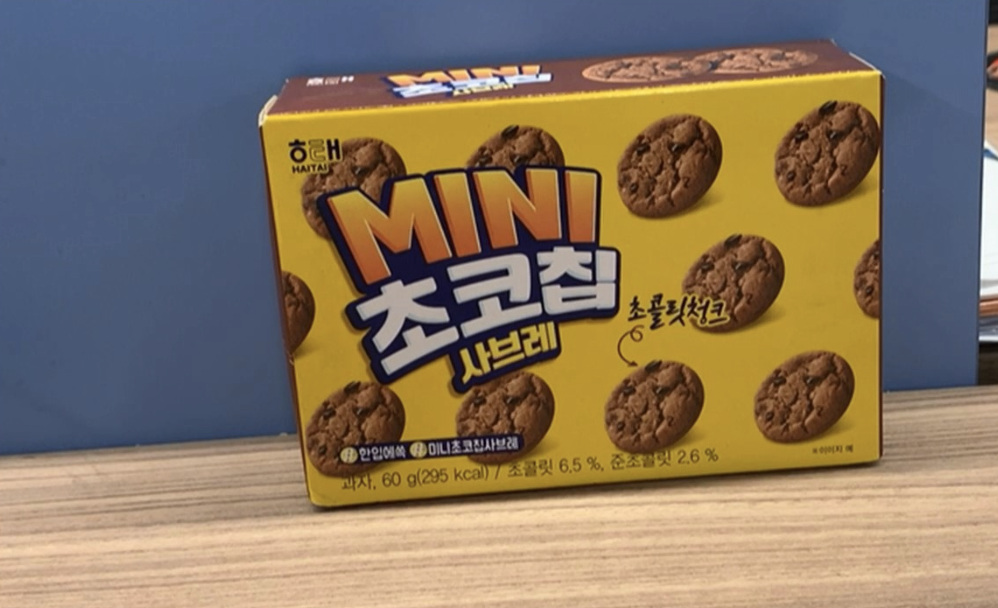cookies_1g-99g: (292, 123, 860, 448)
